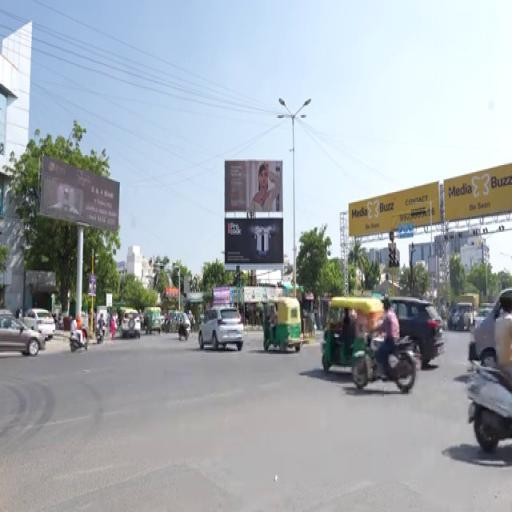Car: (390, 298, 444, 368), (468, 289, 511, 366), (0, 311, 45, 356), (199, 308, 243, 351), (23, 309, 55, 339), (121, 311, 140, 338), (474, 308, 492, 328)
